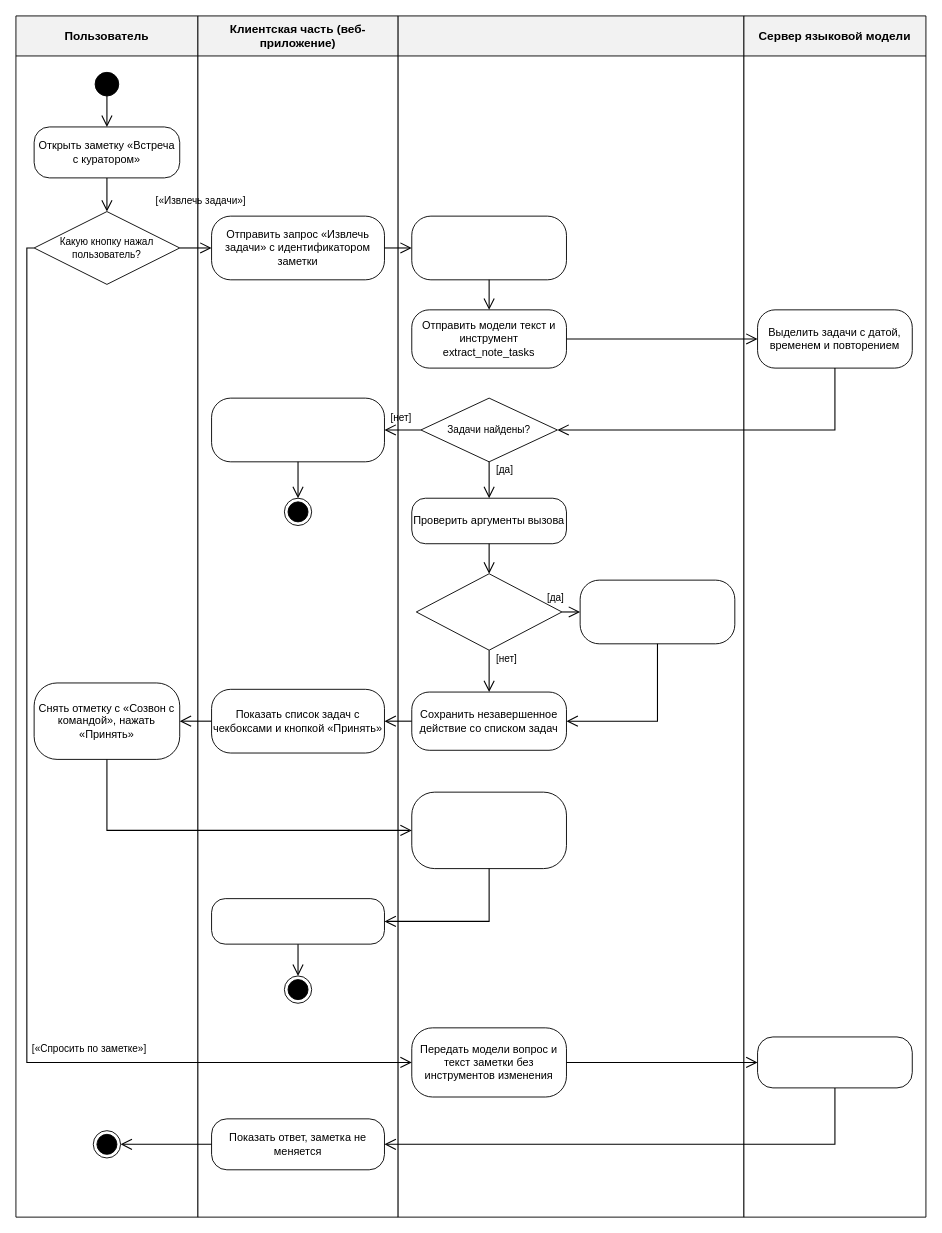
Image size: 942x1233. Some labels were removed from this diagram. The box of each missing label's shape, as (x1, y1, x2, y2) in pixels:
Загрузить текст заметки: до 12 000 символов, без вложений: (411, 215, 566, 280)
Ответить только по тексту заметки: (757, 1036, 912, 1088)
Показать «В заметке нет задач» и кнопку «Краткое содержание»: (211, 397, 384, 462)
Показать «Создано задач: 2»: (211, 898, 384, 944)
Серверная часть: (397, 15, 744, 1217)
Создать отмеченные задачи в папке заметки, удалить незавершенное действие: (411, 791, 566, 869)
Срок привязан к неизвестному событию?: (415, 573, 562, 650)
Уточнить дату у пользователя или создать задачу без даты: (579, 579, 735, 644)
